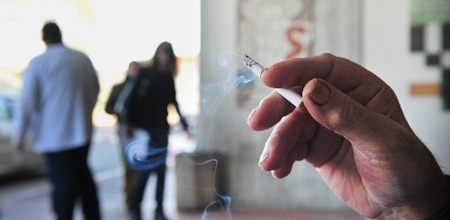yanwu: (127, 140, 235, 210)
